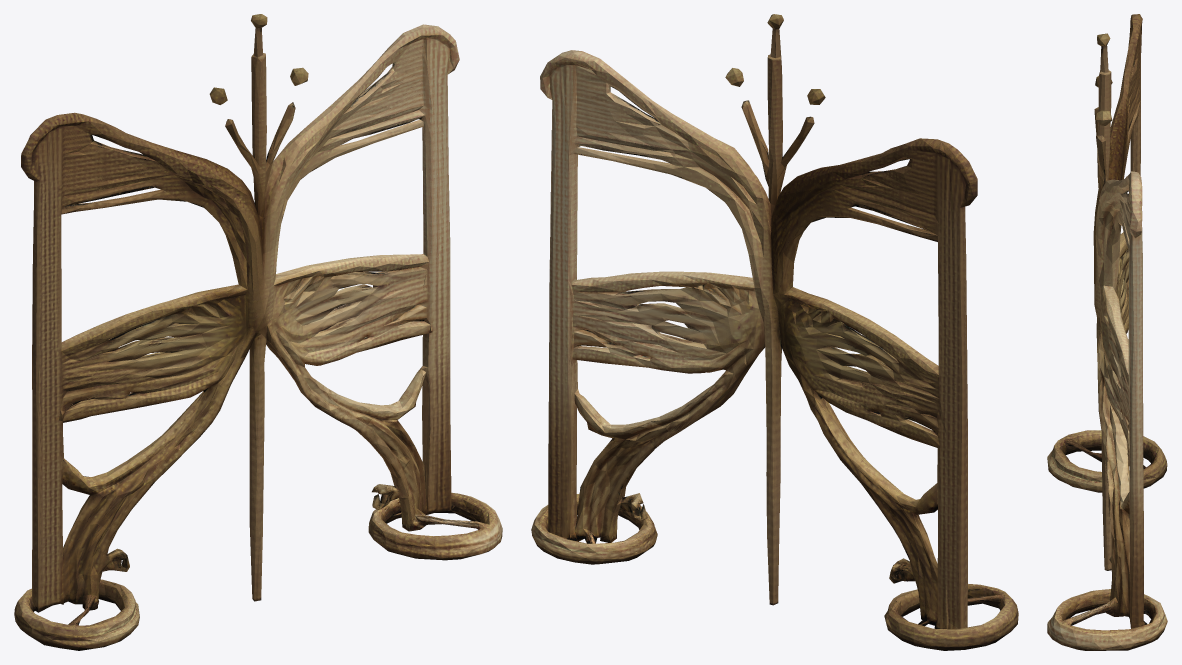
File: sisal-rope-coat-rack-art-deco.jpeg.glb
3 renders of one model, left to right at view 1: azimuth 30°, elevation 25°; view 2: azimuth 150°, elevation 25°; view 3: azimuth 270°, elevation 25°, orthographic. The views are drawn at different scales.
Parts seen in each view (by area): view 1: world; view 2: world; view 3: world.
Part boxes in pixels (box(x1,y1,x2,y2)): world: box(14, 14, 502, 650); world: box(531, 14, 1018, 650); world: box(1047, 14, 1167, 650).
Size of the model in its own units: 0.8272 by 0.9929 by 0.2027.
1 material, 1 textured.
